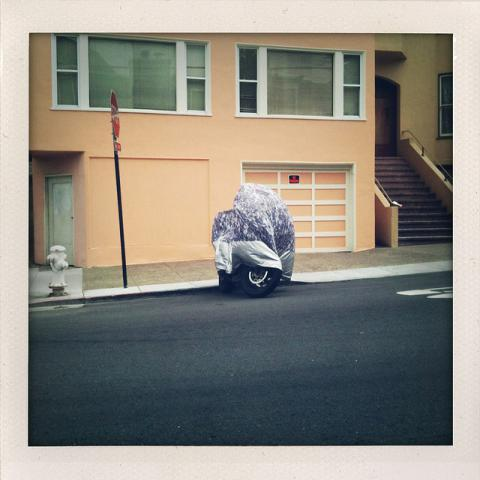motorcycle: (214, 191, 298, 281), (214, 264, 282, 297)
